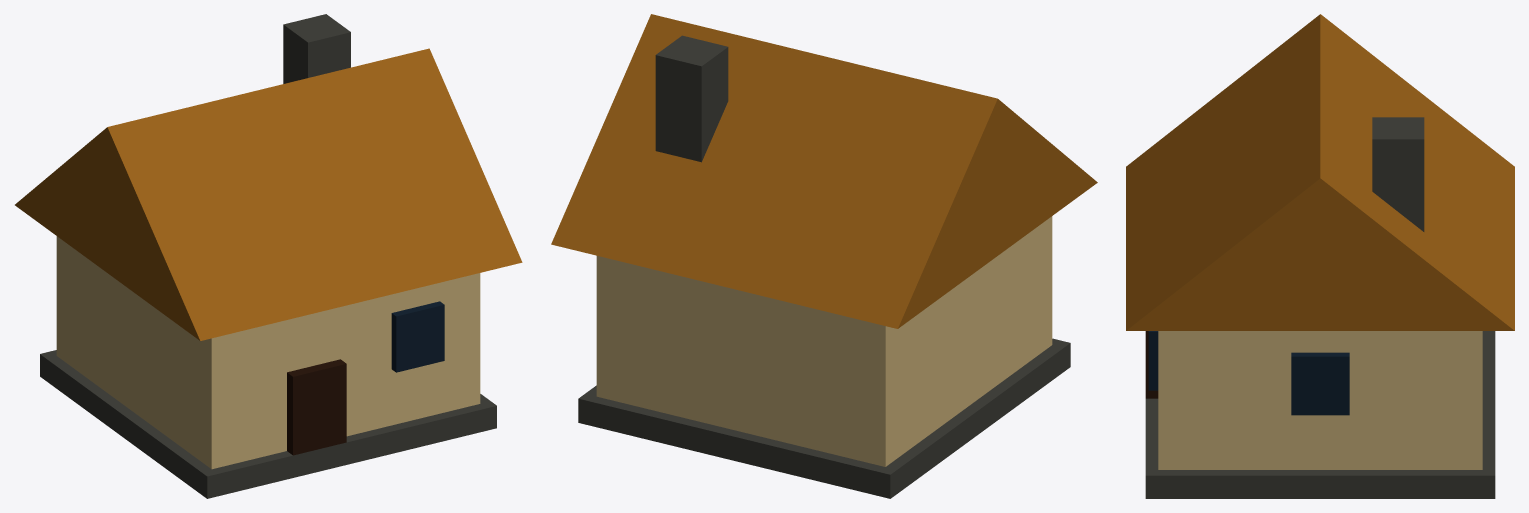
File: house_t1_v1.glb
3 views of the same model, side by side, from view 1: azimuth 30°, elevation 25°; view 2: azimuth 150°, elevation 25°; view 3: azimuth 270°, elevation 25° (orthographic). The views are drawn at different scales.
Visible parts, largest first — view 1: house_t1_v1; view 2: house_t1_v1; view 3: house_t1_v1.
Part boxes in pixels (left/top/right/bottom): house_t1_v1: left=15, top=14, right=522, bottom=498; house_t1_v1: left=551, top=14, right=1097, bottom=498; house_t1_v1: left=1126, top=14, right=1514, bottom=498.
Size of the model in its own units: 0.6 by 0.58 by 0.6.
1 material, 1 textured.
